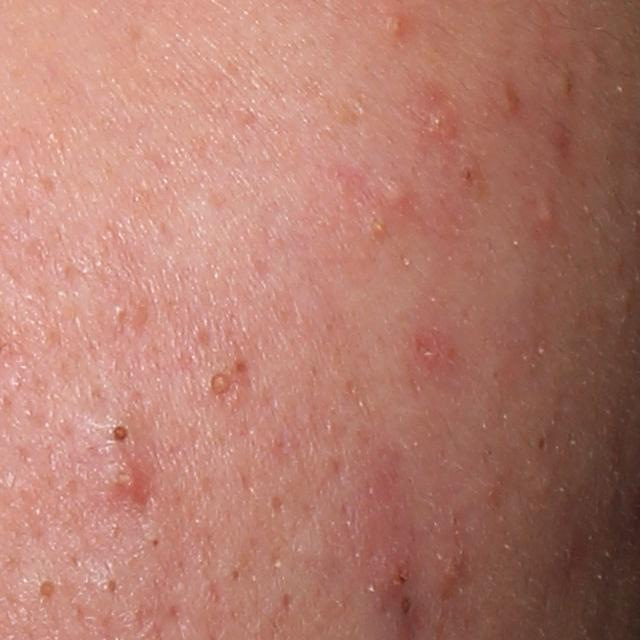comedo: (94, 414, 138, 458), (26, 564, 63, 608), (205, 367, 238, 404), (535, 200, 561, 231), (110, 300, 130, 322), (538, 434, 552, 458), (105, 576, 122, 594)
papule: (369, 543, 421, 600), (425, 103, 460, 148)
